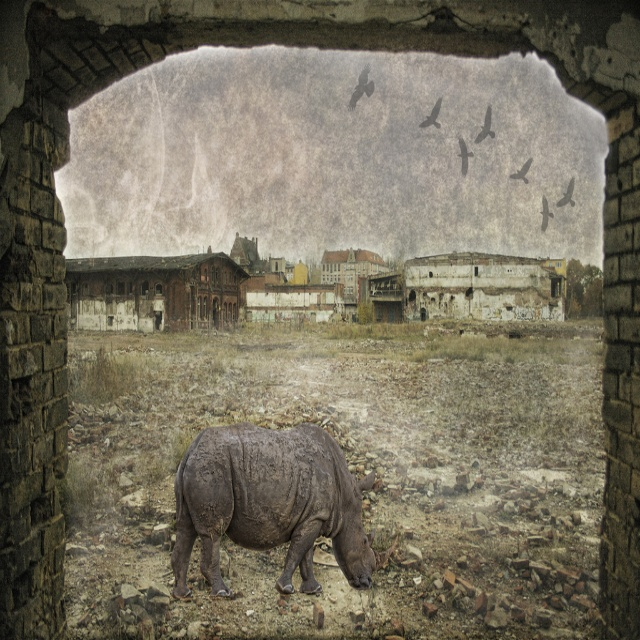Rhinoceros: (172, 422, 384, 603)
